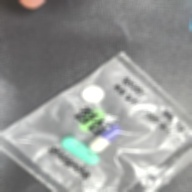러키펜정: (81, 86, 105, 104)
씨엠지세파클러캡슐: (89, 124, 121, 153)
에르도캡슐: (60, 137, 100, 166)
휴티렌정: (80, 109, 107, 132)
